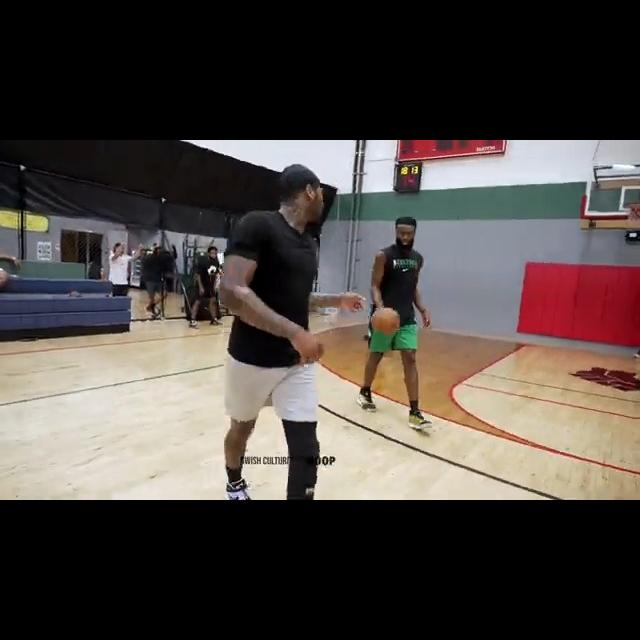basketball: (369, 308, 402, 337)
hoop: (626, 201, 640, 227)
